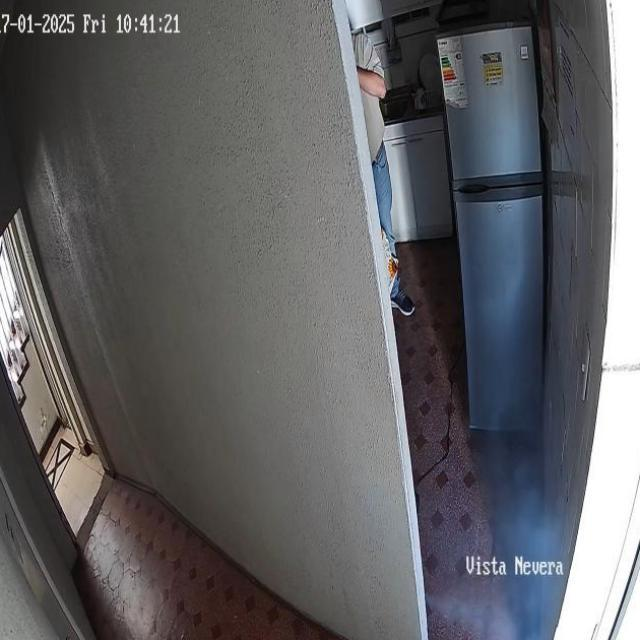fire: (423, 351, 568, 640)
